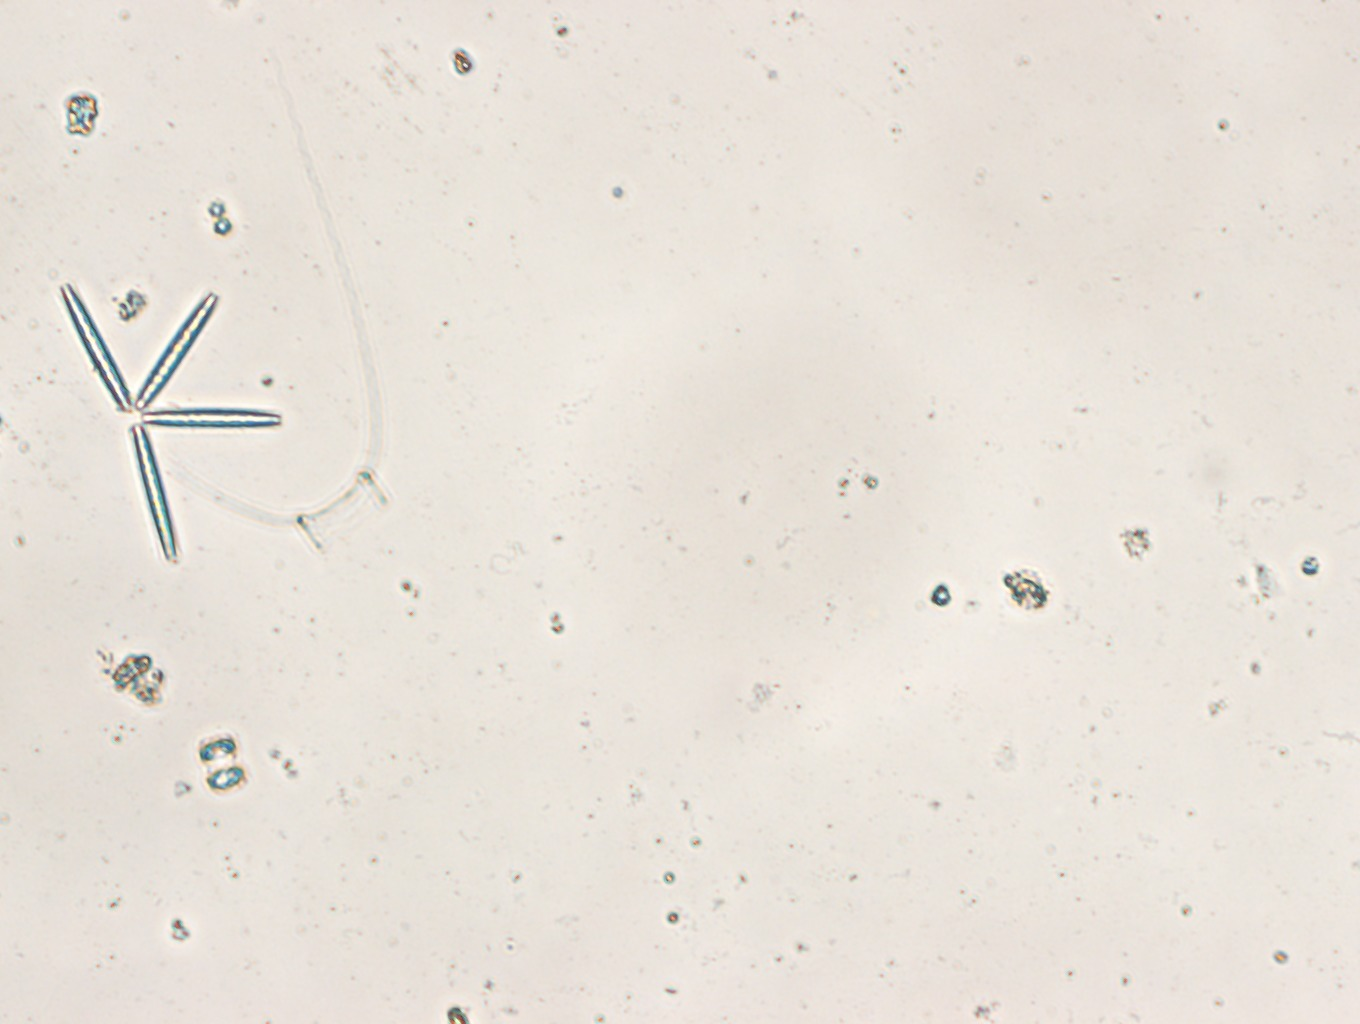thalassionema nitzschioides: (60, 283, 281, 557)
